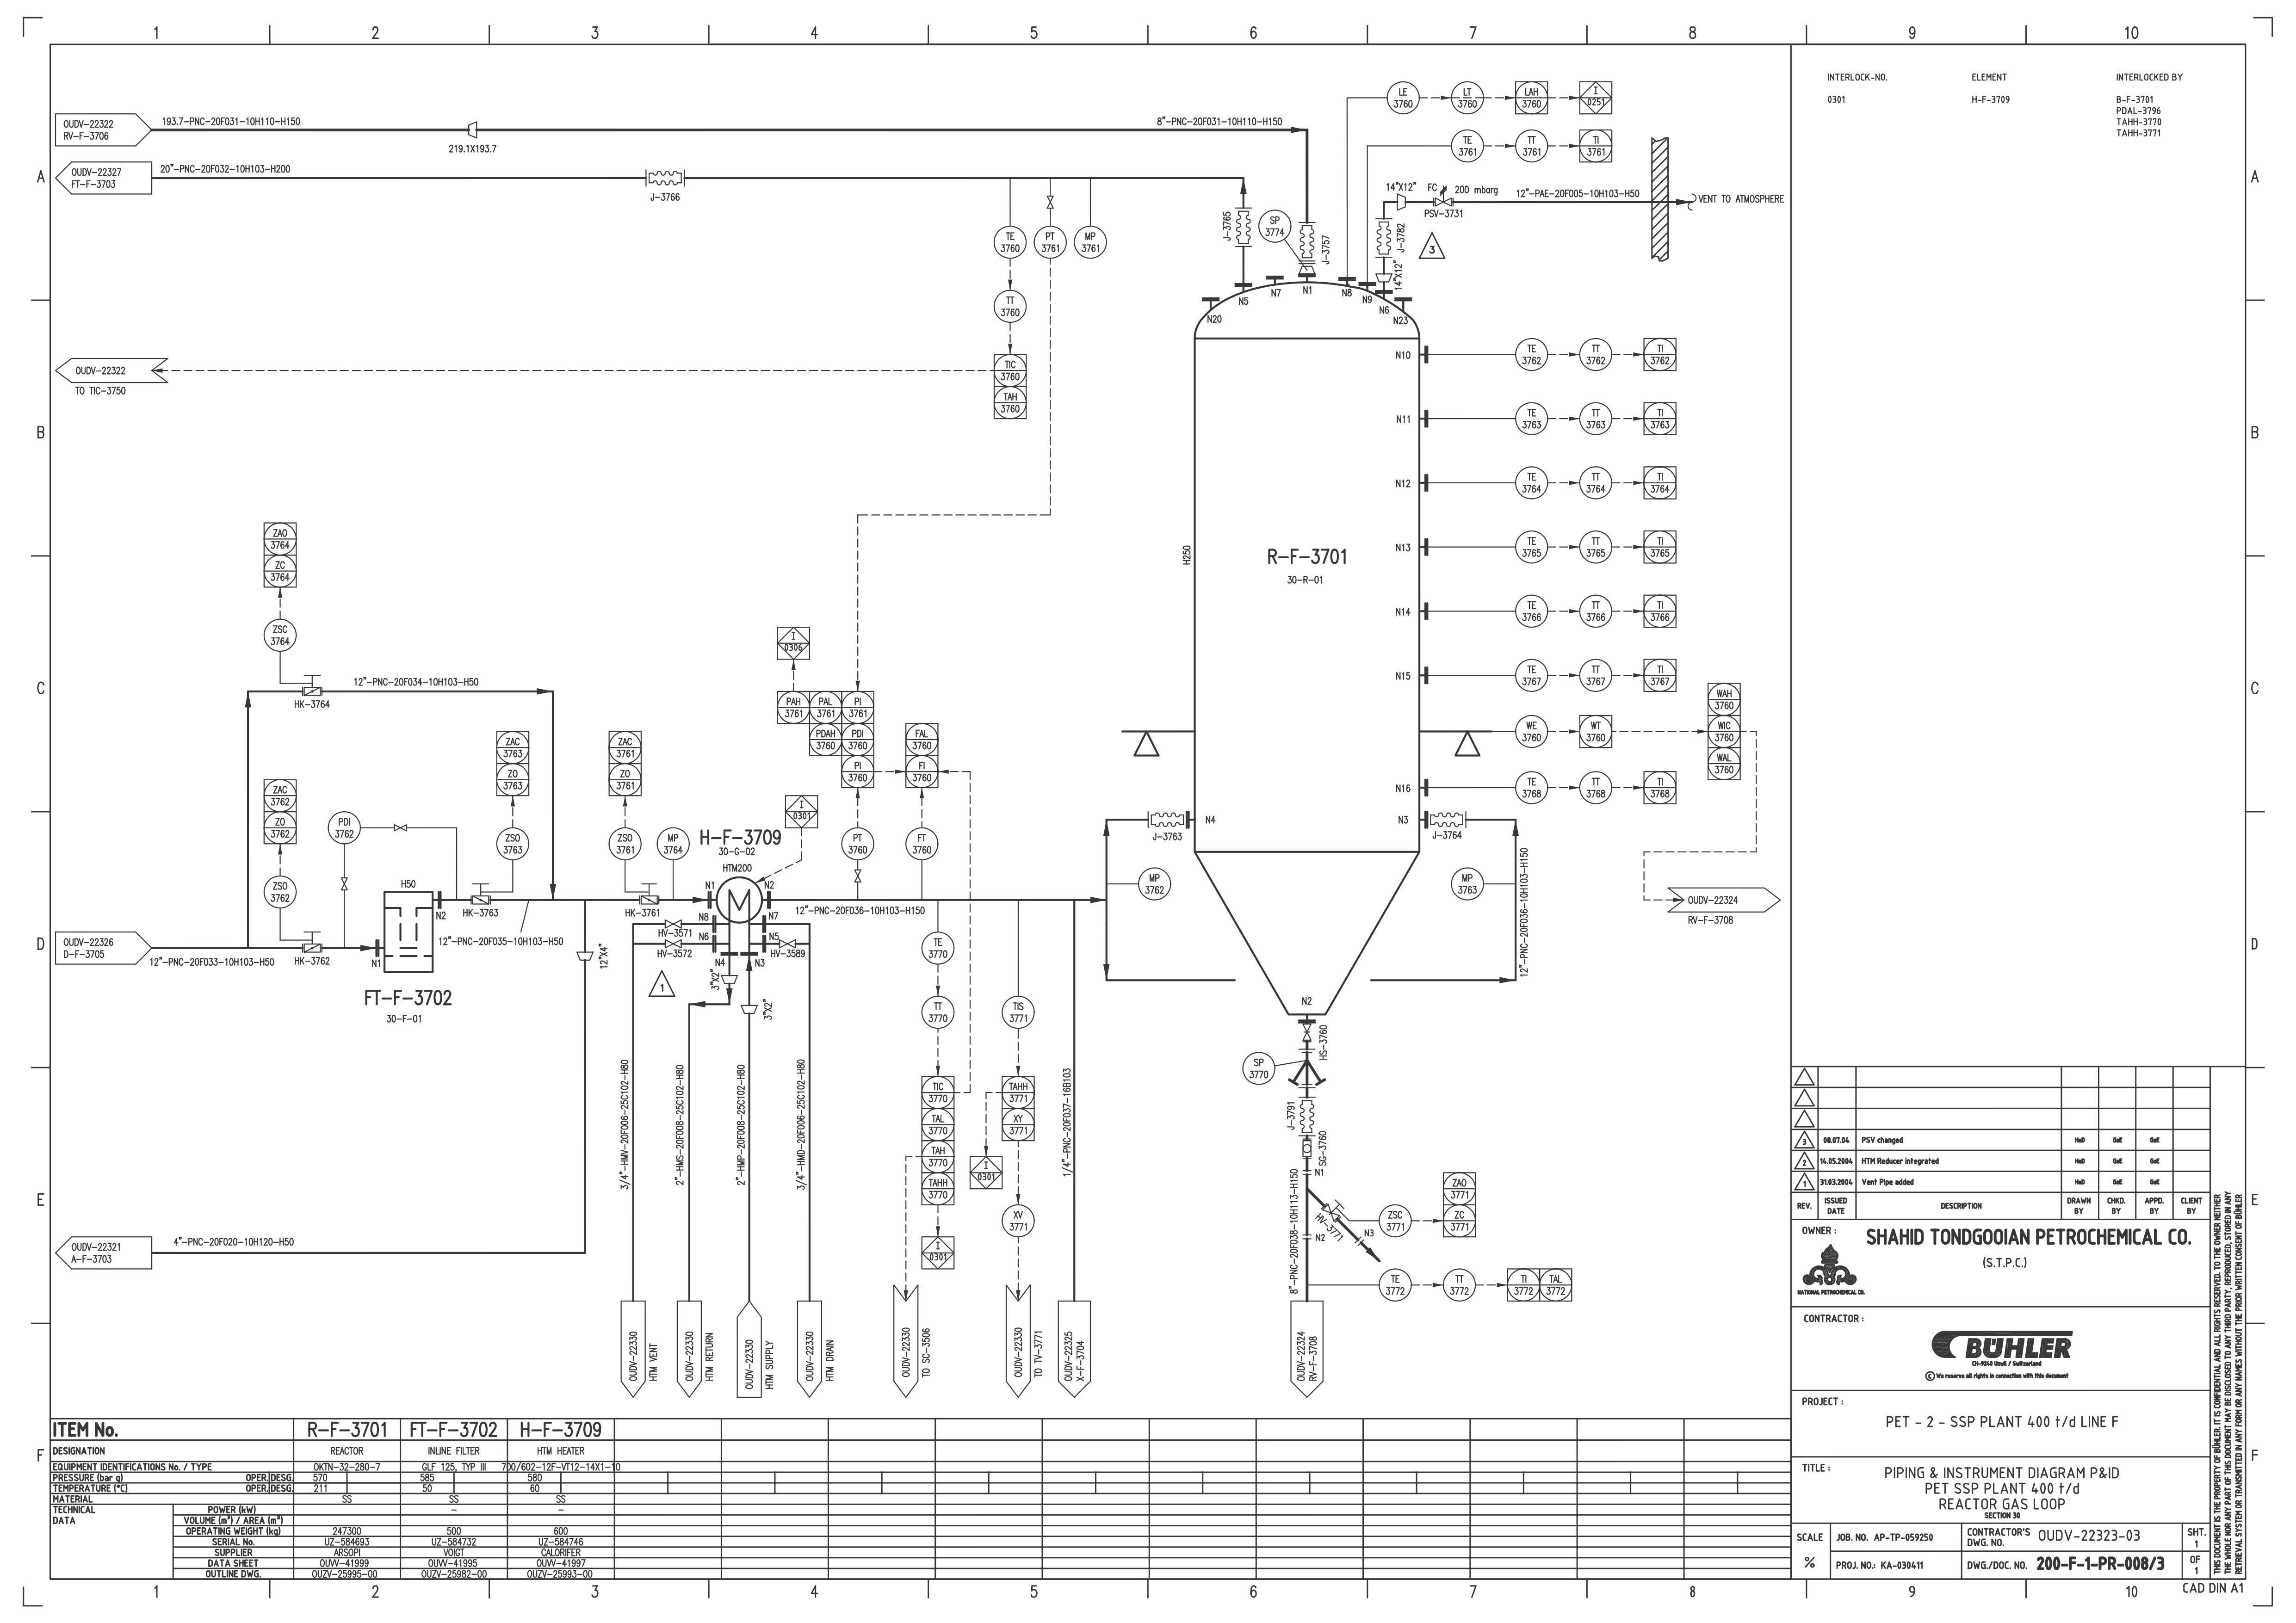BV: (636, 880, 662, 906), (469, 882, 494, 906), (300, 673, 323, 697), (302, 929, 323, 954)
CS: (1296, 1021, 1316, 1043)
EJ: (1372, 214, 1395, 260), (643, 165, 689, 188), (1231, 204, 1254, 248), (1145, 808, 1188, 831), (1296, 220, 1318, 262), (1296, 1094, 1318, 1136), (1426, 810, 1469, 829)
FT1: (381, 889, 436, 975)
GV: (662, 917, 683, 929), (662, 938, 682, 950), (778, 938, 798, 949), (1045, 191, 1056, 209), (392, 822, 409, 833), (339, 875, 348, 891), (854, 868, 863, 884)
HE: (715, 875, 764, 924)
HV: (1319, 1198, 1346, 1224)
R: (1180, 279, 1425, 1019)
RPV: (1432, 184, 1456, 211)
SG: (1302, 1138, 1314, 1159)
SP: (1395, 193, 1409, 211), (466, 119, 480, 137), (574, 949, 594, 961), (1296, 265, 1318, 276), (720, 973, 738, 985), (740, 1003, 757, 1015), (1374, 272, 1393, 283)
